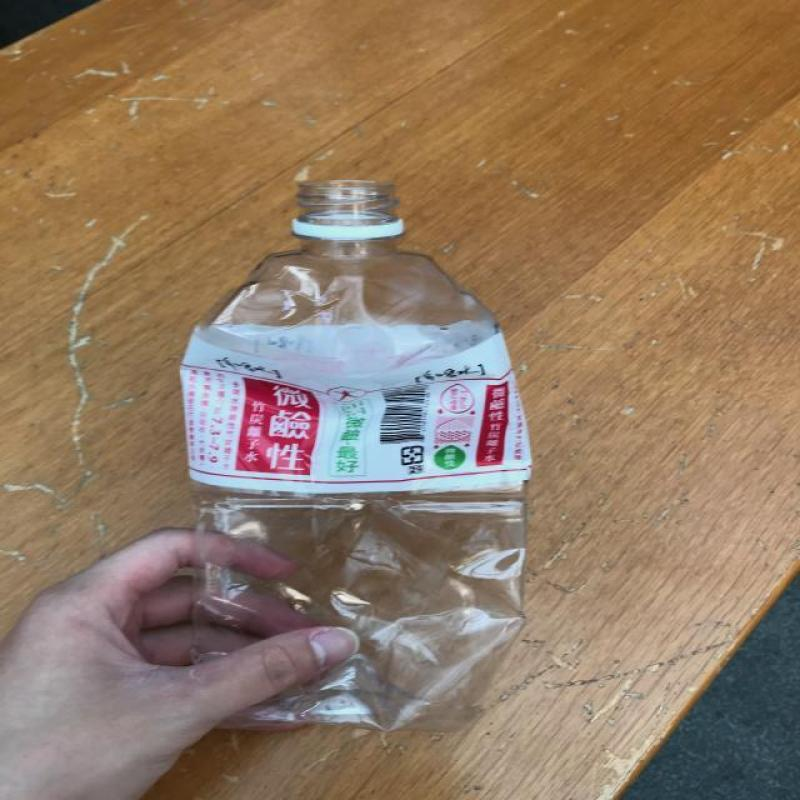botella: (178, 180, 574, 732)
